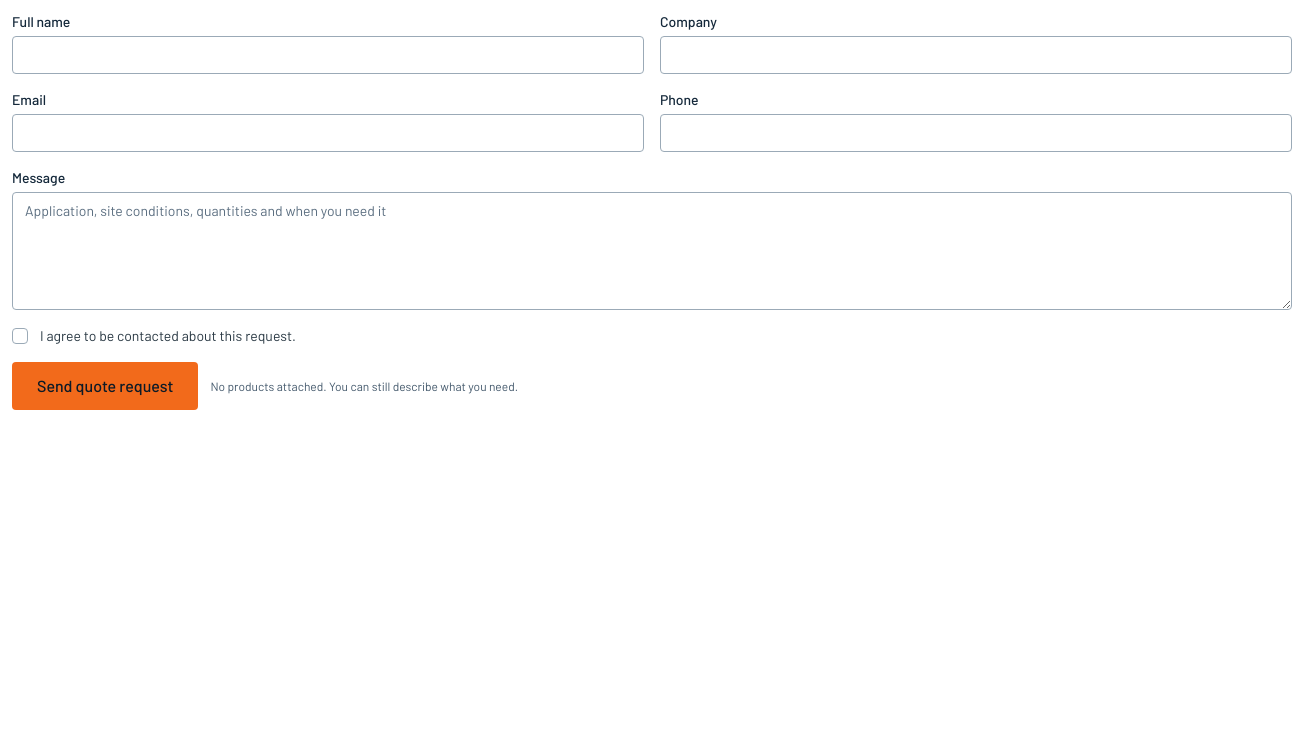
Test: shows validation messages on an empty submit
This screenshot has width=1304, height=732.
Step 1. Click the button "Send quote request" → [105, 386], box [12, 362, 198, 410]
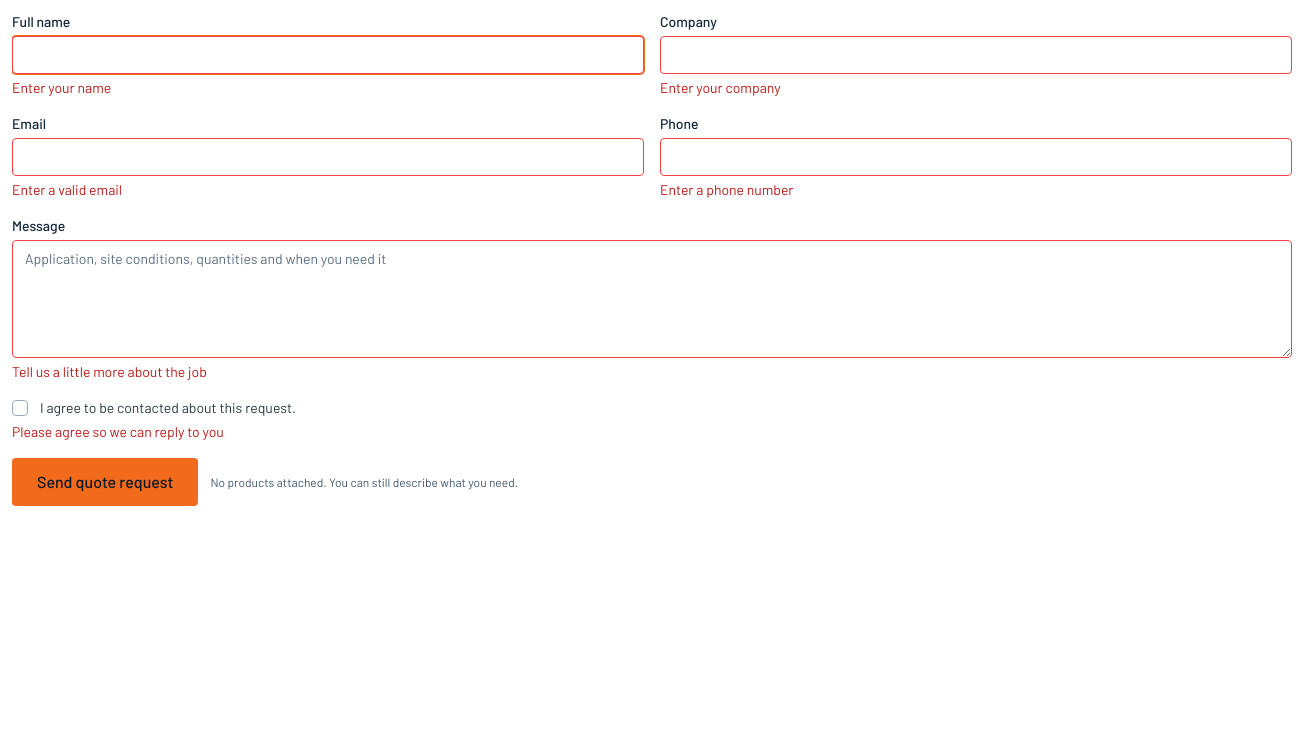
Now the text "Enter your name" is shown, box [12, 79, 111, 96]
Now the text "Enter a valid email" is shown, box [12, 181, 122, 198]
